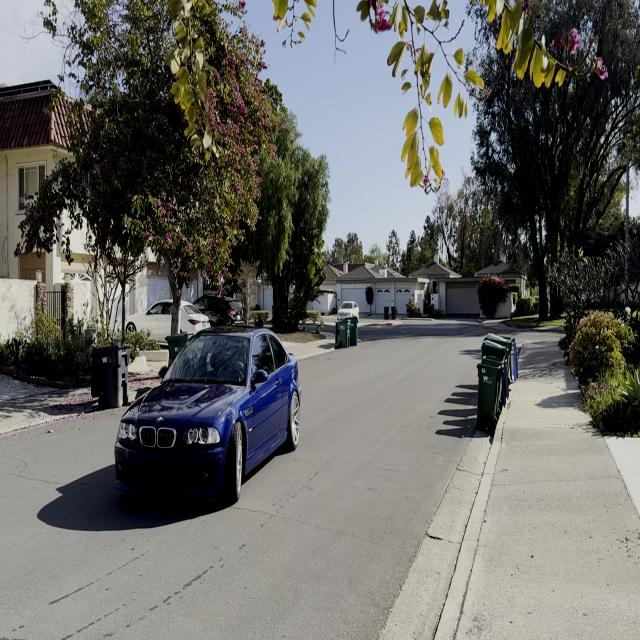Carbeetle: (112, 319, 302, 527)
